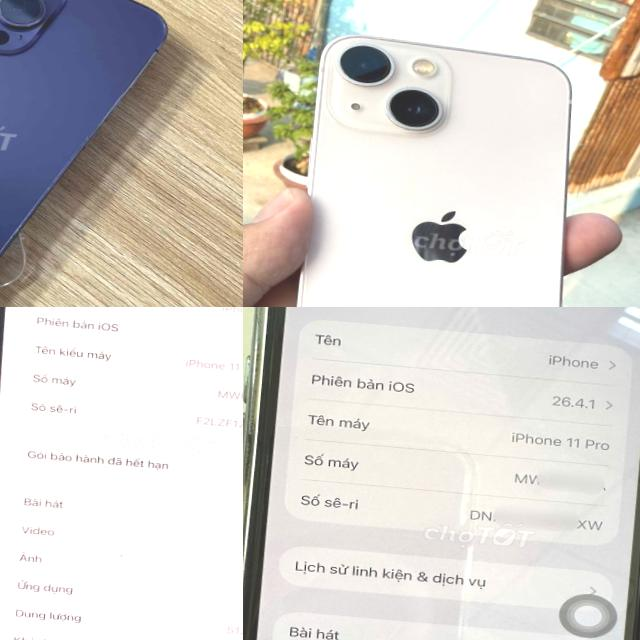gen_11: (243, 307, 640, 640), (0, 307, 243, 640)
gen_12_13: (269, 28, 599, 307)
gen_14: (0, 0, 176, 307)
